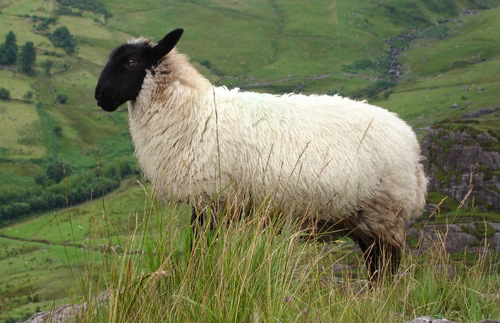koyun: (95, 26, 428, 288)
